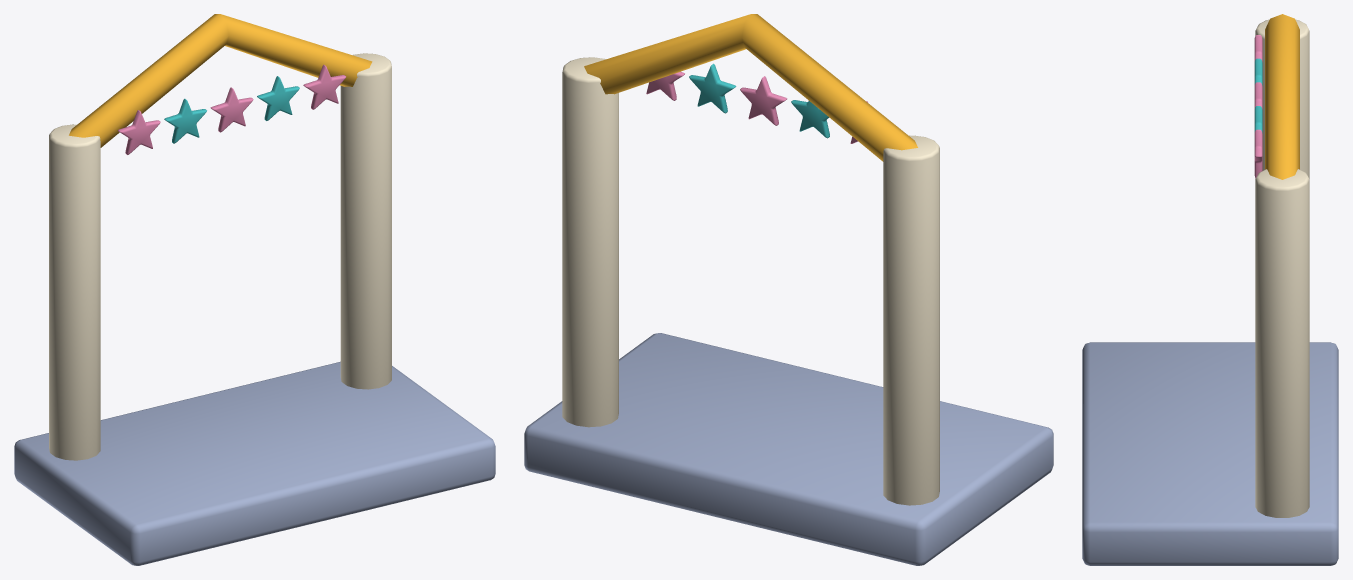
The model's file is r028_castle_throne_room_presentation_throne_room.glb.
The picture shows the model from 3 angles, left to right: view 1: azimuth 30°, elevation 25°; view 2: azimuth 150°, elevation 25°; view 3: azimuth 270°, elevation 25°; orthographic projection. The views are drawn at different scales.
Parts seen in each view (by area): view 1: r028_castle_throne_room_presentation_throne_room.001; view 2: r028_castle_throne_room_presentation_throne_room.001; view 3: r028_castle_throne_room_presentation_throne_room.001.
Part boxes in pixels (<box>): r028_castle_throne_room_presentation_throne_room.001: <box>14,14,495,565</box>; r028_castle_throne_room_presentation_throne_room.001: <box>524,14,1053,565</box>; r028_castle_throne_room_presentation_throne_room.001: <box>1082,14,1338,565</box>.
Size of the model in its own units: 5.5 by 6.37 by 3.2.
